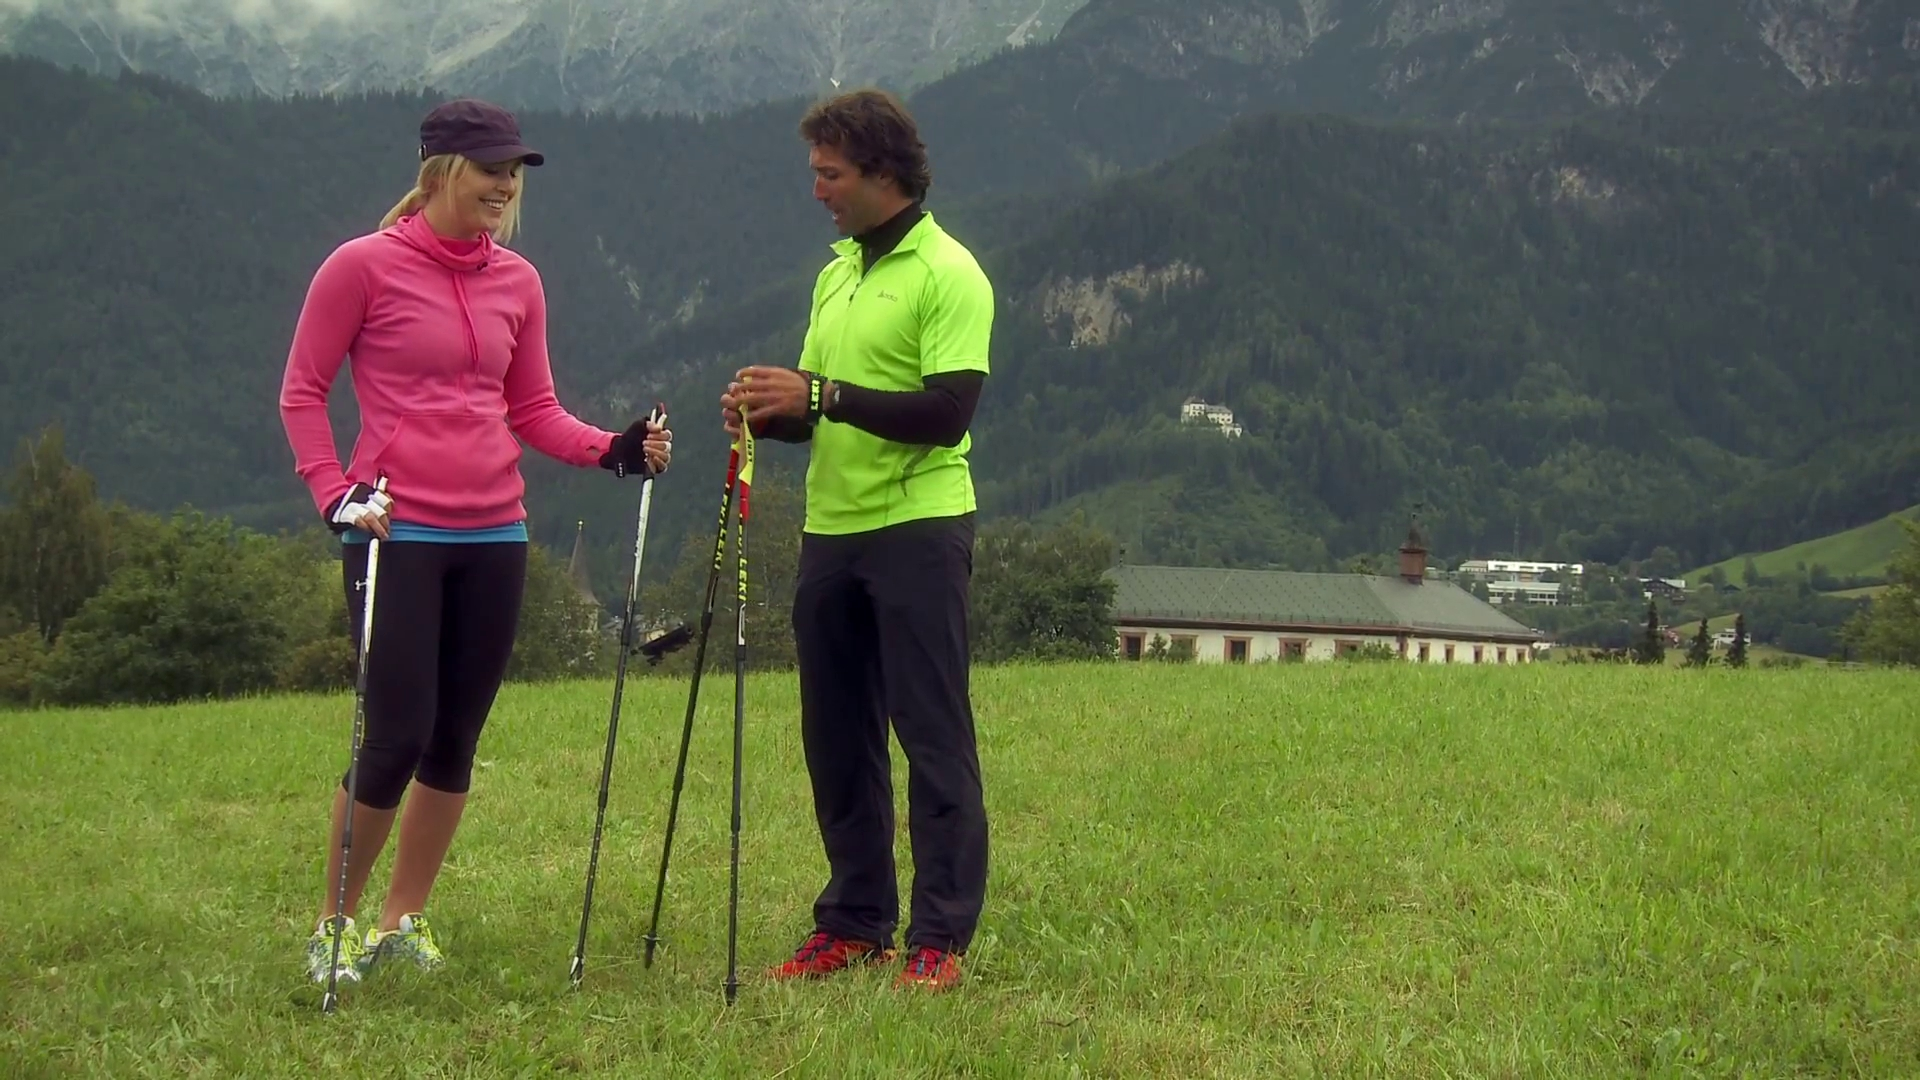person: (279, 99, 673, 989), (722, 91, 994, 992)
